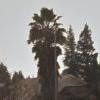Palm tree: (23, 6, 78, 87)
